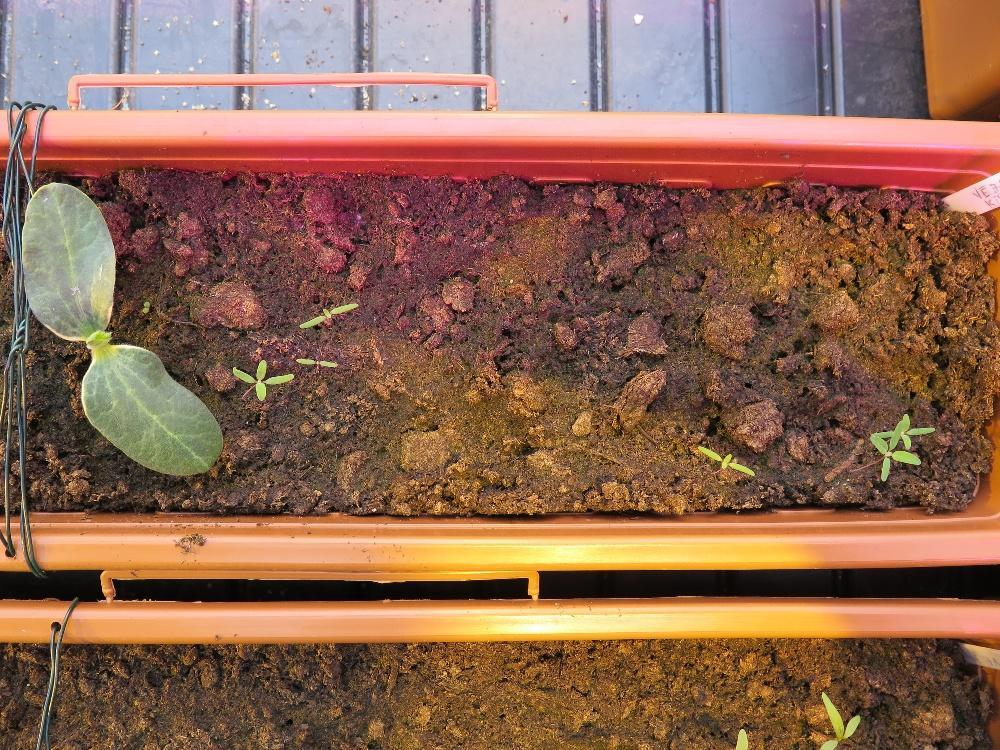weed: (230, 357, 293, 399), (695, 443, 755, 477), (297, 300, 358, 329), (294, 356, 337, 367), (140, 298, 149, 314)
